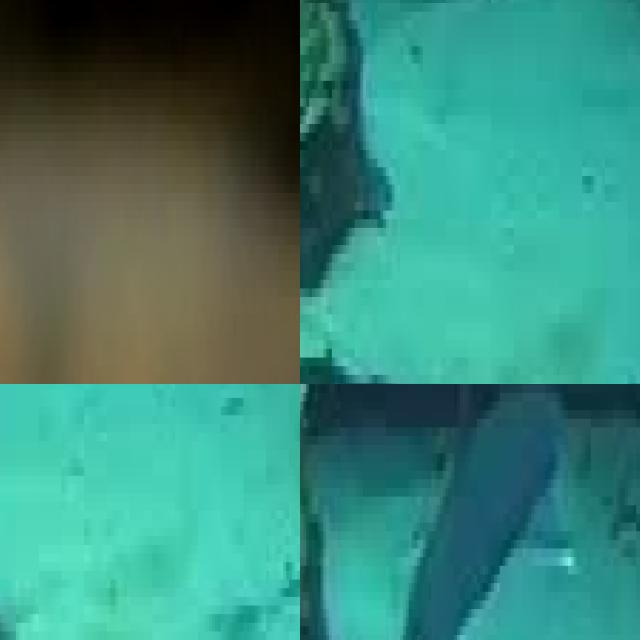fish: (0, 2, 300, 384)
